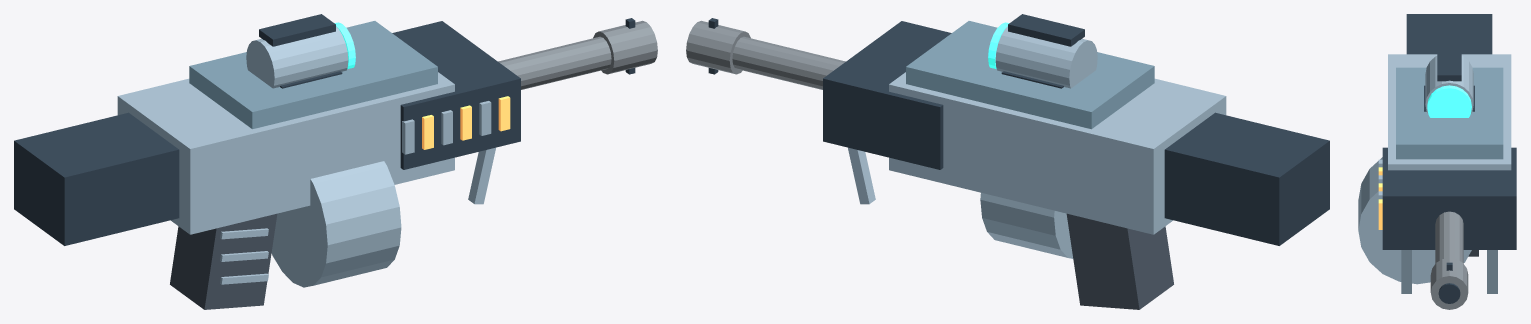
File: lmg.glb
3 renders of one model, left to right at view 1: azimuth 30°, elevation 25°; view 2: azimuth 150°, elevation 25°; view 3: azimuth 270°, elevation 25°, orthographic. The views are drawn at different scales.
Visible parts, largest first — view 1: LMG_Receiver, LMG_Stock, LMG_Ammo_Drum, LMG_Cover, LMG_HeatShroud, LMG_Grip, LMG_Reflex_tube, LMG_Barrel, LMG_Muzzle, LMG_Reflex_rail, Bipod_Front_R, LMG_HeatPort_0 (+2 smaller); view 2: LMG_Receiver, LMG_Stock, LMG_HeatShroud, LMG_Cover, LMG_Grip, LMG_Reflex_tube, LMG_Ammo_Drum, LMG_Barrel, LMG_Muzzle, LMG_Reflex_rail, Bipod_Front_L; view 3: LMG_HeatShroud, LMG_Cover, LMG_Receiver, LMG_Stock, LMG_Ammo_Drum, LMG_Muzzle, LMG_Barrel, LMG_Reflex_ring, LMG_Reflex_tube, LMG_Reflex_rail, Bipod_Front_L, Bipod_Front_R (+2 smaller).
Boxes of the visible parts, x1,y1,x2,y2 form: LMG_Receiver: [117, 72, 454, 234]; LMG_Stock: [14, 112, 179, 245]; LMG_Ammo_Drum: [271, 161, 401, 287]; LMG_Cover: [189, 21, 437, 129]; LMG_HeatShroud: [392, 21, 520, 169]; LMG_Grip: [170, 213, 277, 309]; LMG_Reflex_tube: [246, 26, 348, 88]; LMG_Barrel: [498, 36, 611, 89]; LMG_Muzzle: [593, 20, 657, 74]; LMG_Reflex_rail: [259, 14, 335, 46]; Bipod_Front_R: [468, 147, 495, 204]; LMG_HeatPort_0: [402, 119, 414, 154]; LMG_Receiver: [889, 72, 1226, 234]; LMG_Stock: [1164, 112, 1329, 245]; LMG_HeatShroud: [823, 21, 951, 169]; LMG_Cover: [906, 21, 1154, 129]; LMG_Grip: [1066, 213, 1173, 309]; LMG_Reflex_tube: [995, 26, 1097, 88]; LMG_Ammo_Drum: [980, 192, 1073, 258]; LMG_Barrel: [732, 36, 845, 89]; LMG_Muzzle: [686, 20, 750, 74]; LMG_Reflex_rail: [1008, 14, 1084, 46]; Bipod_Front_L: [848, 147, 875, 204]; LMG_HeatShroud: [1382, 147, 1516, 249]; LMG_Cover: [1396, 67, 1503, 159]; LMG_Receiver: [1388, 54, 1511, 170]; LMG_Stock: [1406, 14, 1492, 54]; LMG_Ammo_Drum: [1358, 157, 1471, 284]; LMG_Muzzle: [1430, 258, 1468, 309]; LMG_Barrel: [1435, 211, 1463, 263]; LMG_Reflex_ring: [1427, 85, 1471, 117]; LMG_Reflex_tube: [1425, 56, 1473, 114]; LMG_Reflex_rail: [1437, 49, 1461, 81]; Bipod_Front_L: [1487, 250, 1497, 293]; Bipod_Front_R: [1401, 250, 1411, 293].
Size of the model in its own units: 2.24 by 0.8872 by 0.59.
